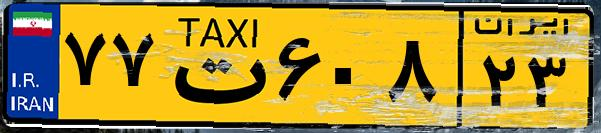0: (330, 28, 385, 110)
2: (475, 38, 525, 113)
3: (525, 38, 570, 115)
6: (270, 28, 330, 110)
7: (57, 26, 110, 100), (110, 28, 158, 98)
8: (385, 28, 445, 110)
ت: (158, 12, 270, 120)
